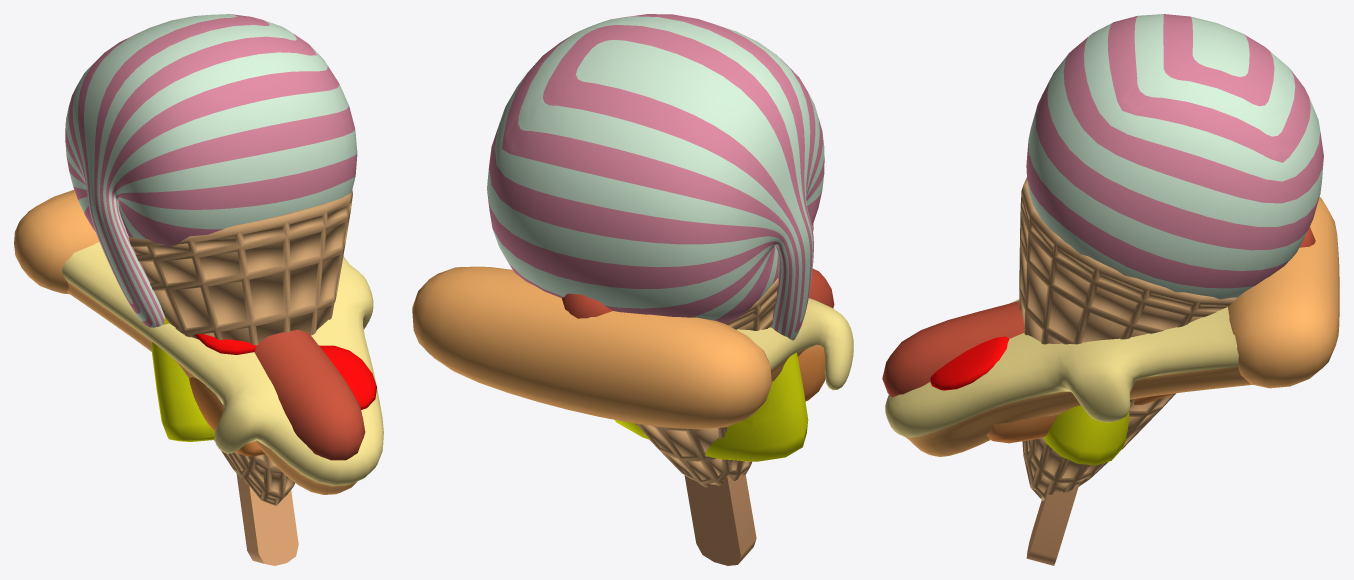
The model's file is Assets_Comida.fbx.
3 renders of one model, left to right at view 1: azimuth 30°, elevation 25°; view 2: azimuth 150°, elevation 25°; view 3: azimuth 270°, elevation 25°, orthographic. The views are drawn at different scales.
Visible parts, largest first — view 1: Helado, Pizza, HotDog, Polo; view 2: Helado, Pizza, Polo, HotDog; view 3: Helado, Pizza, HotDog, Polo.
Boxes of the visible parts, box(x1,y1,x2,y2) form: Helado: box(65, 14, 357, 505); Pizza: box(14, 190, 383, 494); HotDog: box(189, 329, 365, 460); Polo: box(151, 317, 298, 565); Helado: box(487, 14, 824, 487); Pizza: box(412, 266, 853, 429); Polo: box(615, 352, 808, 565); HotDog: box(562, 268, 834, 401); Helado: box(1019, 14, 1323, 500); Pizza: box(885, 197, 1339, 456); HotDog: box(882, 227, 1315, 443); Polo: box(1026, 403, 1130, 565).
Size of the model in its own units: 73.46 by 118 by 93.02.
Materials: 4 (4 with a texture image).
